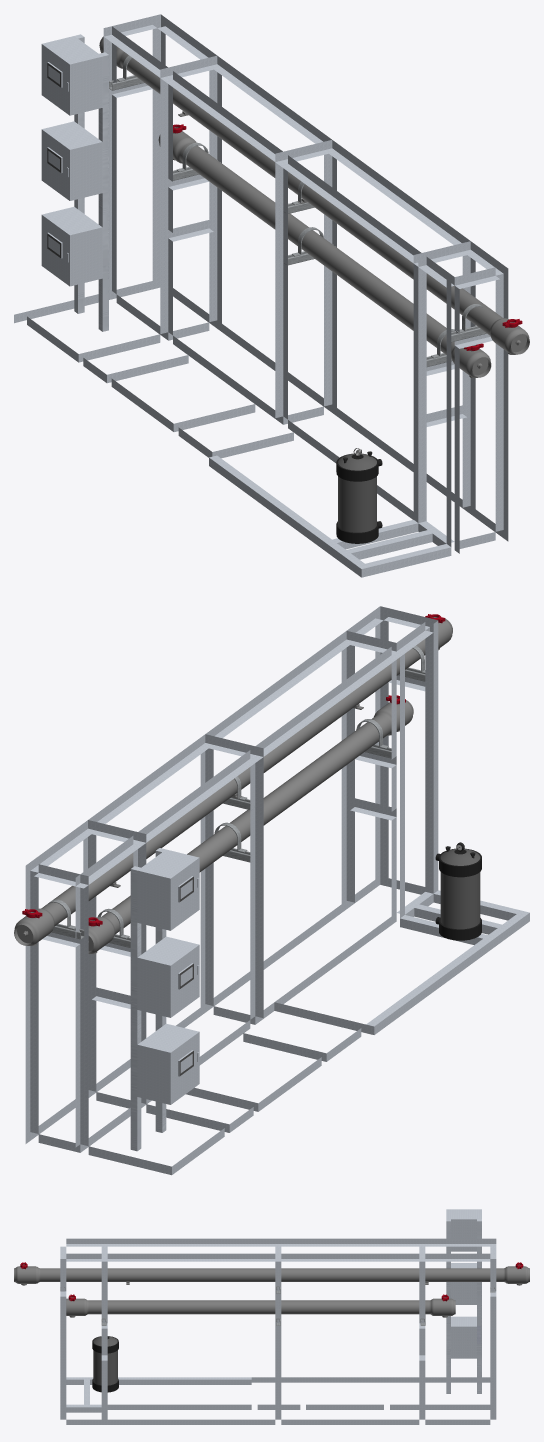
File: stage5_2a.gltf
3 views of the same model, one above another, from view 1: azimuth 30°, elevation 25°; view 2: azimuth 150°, elevation 25°; view 3: azimuth 270°, elevation 25° (orthographic). The views are drawn at different scales.
Parts seen in each view (by area): view 1: object 1, BEKAERT PRO 8-450-MSP 3inch#3, BEKAERT PRO 8-450-MSP 3inch#2, object 4, object 3, object 5, object 2, object 34; view 2: object 1, BEKAERT PRO 8-450-MSP 3inch#2, BEKAERT PRO 8-450-MSP 3inch#3, object 3, object 4, object 5, object 2, object 34; view 3: object 1, BEKAERT PRO 8-450-MSP 3inch#2, BEKAERT PRO 8-450-MSP 3inch#3, object 2, object 4, object 3, object 5, object 34.
Part boxes in pixels (x1,y1,x2,y2): object 1: [14, 14, 508, 577]; BEKAERT PRO 8-450-MSP 3inch#3: [158, 127, 491, 377]; BEKAERT PRO 8-450-MSP 3inch#2: [99, 36, 529, 354]; object 4: [41, 206, 102, 286]; object 3: [41, 36, 102, 115]; object 5: [41, 121, 102, 200]; object 2: [74, 34, 108, 331]; object 34: [338, 476, 376, 532]; object 1: [25, 606, 529, 1175]; BEKAERT PRO 8-450-MSP 3inch#2: [14, 617, 452, 945]; BEKAERT PRO 8-450-MSP 3inch#3: [88, 698, 413, 954]; object 3: [137, 849, 199, 930]; object 4: [137, 1023, 199, 1104]; object 5: [137, 936, 199, 1017]; object 2: [130, 848, 166, 1151]; object 34: [440, 872, 480, 929]; object 1: [60, 1238, 496, 1424]; BEKAERT PRO 8-450-MSP 3inch#2: [14, 1264, 529, 1285]; BEKAERT PRO 8-450-MSP 3inch#3: [66, 1297, 455, 1317]; object 2: [446, 1219, 481, 1393]; object 4: [451, 1316, 476, 1358]; object 3: [446, 1209, 481, 1251]; object 5: [451, 1263, 476, 1304]; object 34: [93, 1350, 117, 1385].
Size of the model in its own units: 0.9003 by 1.66 by 4.37.
19 materials, 9 textured.
